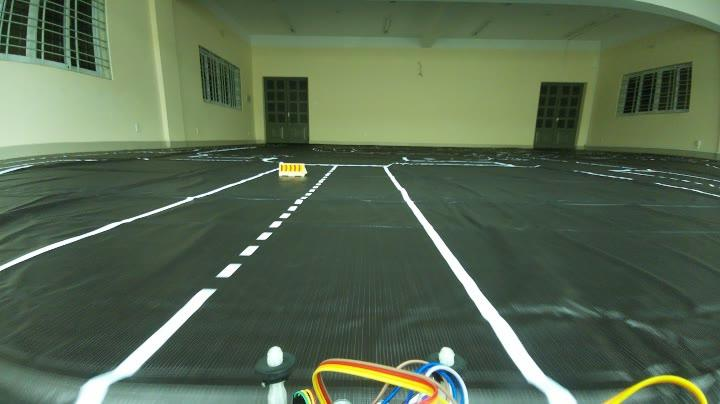roadblock: (276, 158, 309, 182)
